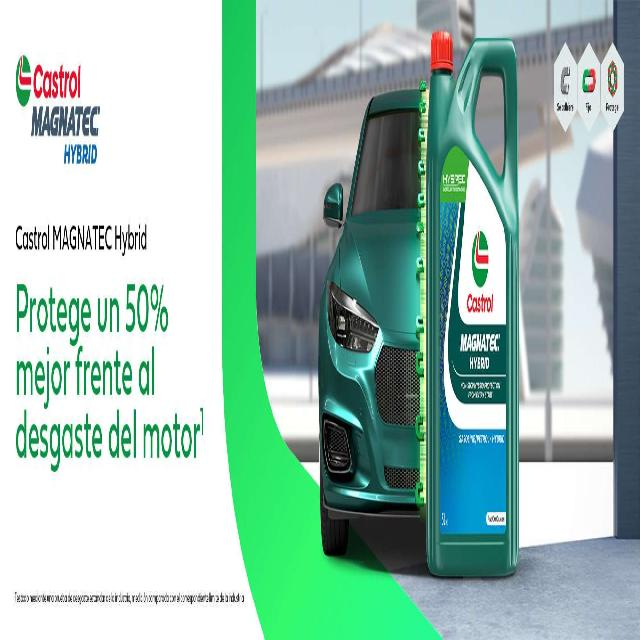motor_oil: (426, 20, 522, 586)
